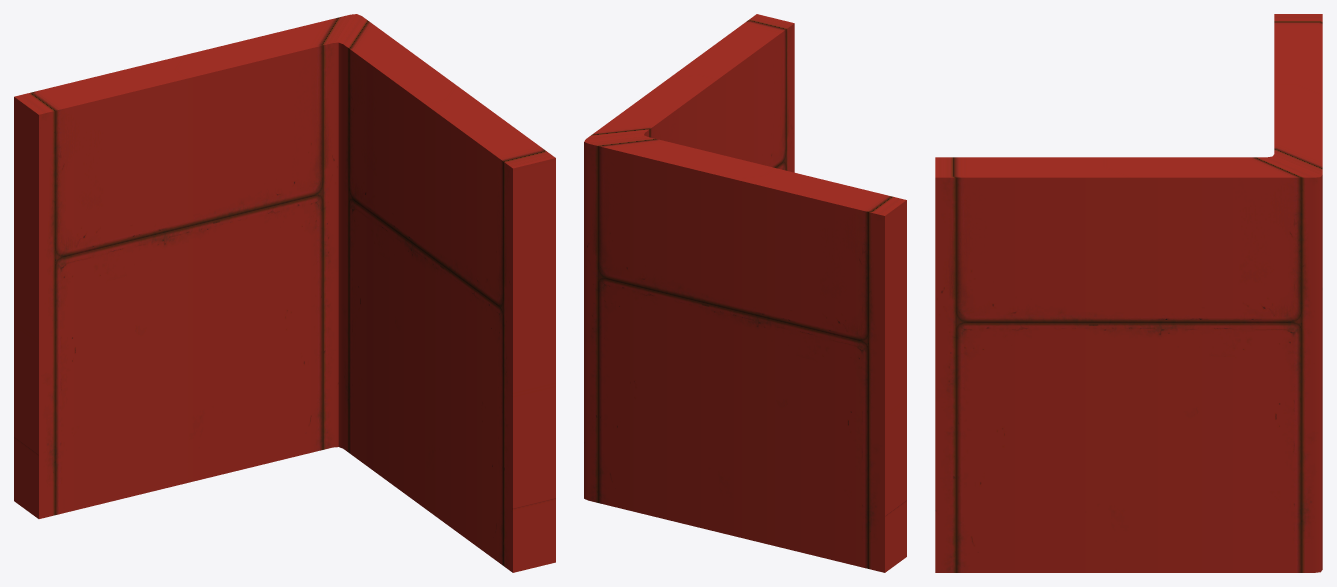
Rendered from RedWall01_Tile_Border_Out.dae.
3 views of the same model, side by side, from view 1: azimuth 30°, elevation 25°; view 2: azimuth 150°, elevation 25°; view 3: azimuth 270°, elevation 25° (orthographic). The views are drawn at different scales.
Parts seen in each view (by area): view 1: polySurface7; view 2: polySurface7; view 3: polySurface7.
Boxes of the visible parts, <box> form: polySurface7: <box>14,14,555,572</box>; polySurface7: <box>584,14,906,572</box>; polySurface7: <box>935,14,1322,572</box>.
Bounding box in the file's own units: 4 × 4.5 × 4.
Materials: 1 (1 with a texture image).
